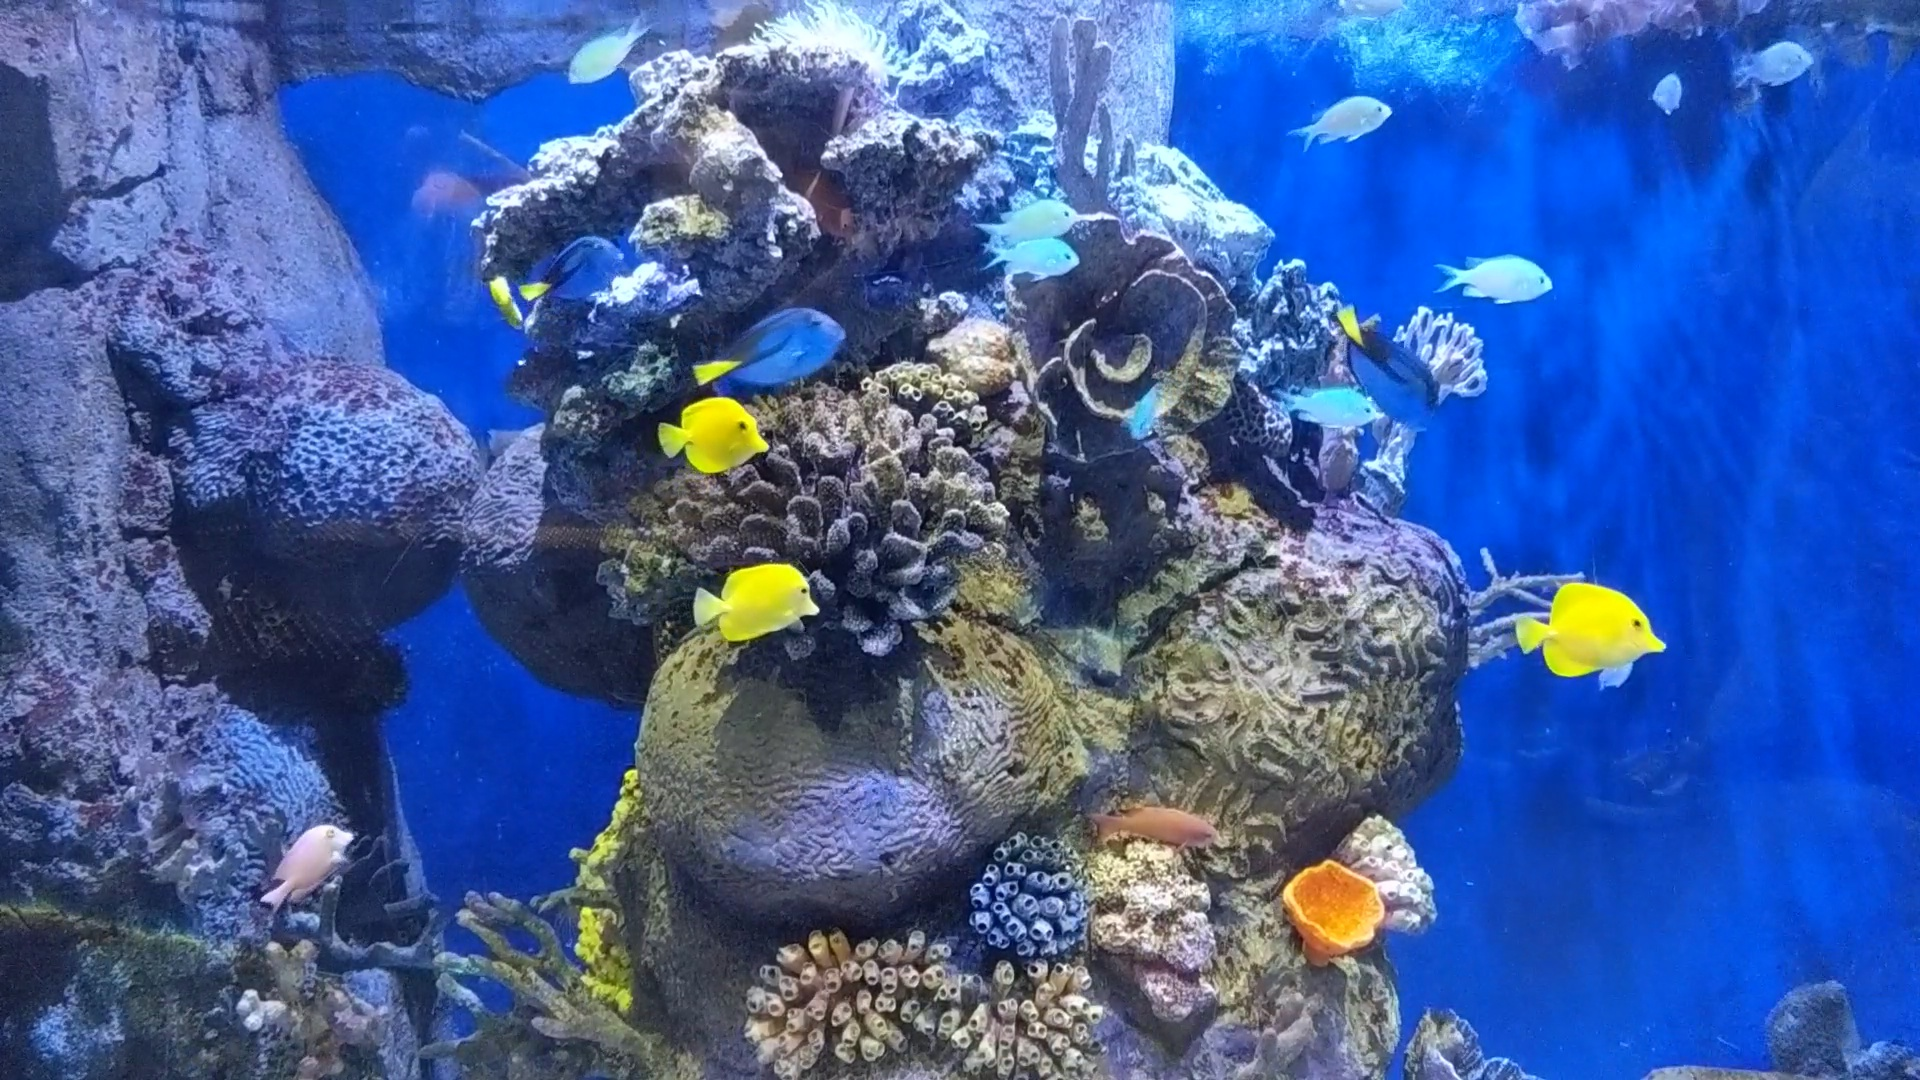blue tang surgeonfish: (1329, 301, 1455, 425), (688, 306, 853, 389), (533, 223, 661, 316)
damselfish: (1431, 248, 1553, 306), (564, 7, 651, 88), (978, 239, 1092, 291), (968, 191, 1079, 244), (1295, 94, 1399, 145), (1269, 392, 1385, 430), (1735, 36, 1815, 90), (1118, 382, 1174, 454), (1589, 642, 1642, 712), (1647, 62, 1687, 117)
saddle butterfly fish: (1505, 572, 1676, 694), (688, 558, 841, 644), (655, 397, 781, 483), (484, 255, 572, 340)
